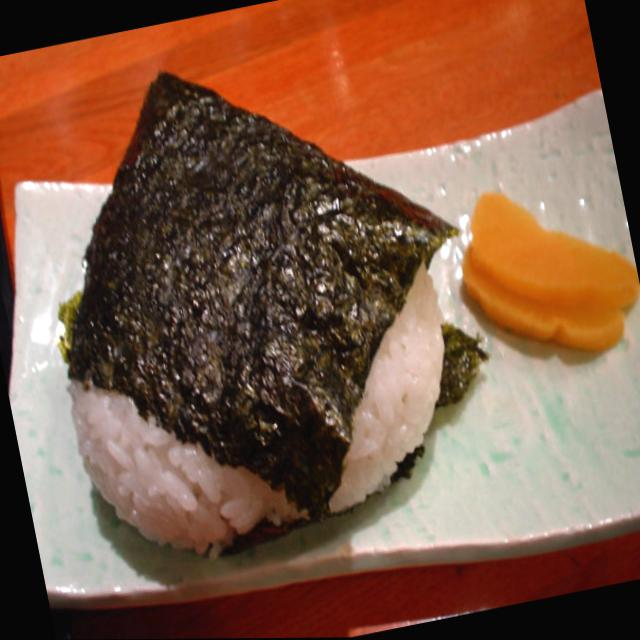米饭主食: (5, 4, 526, 590)
